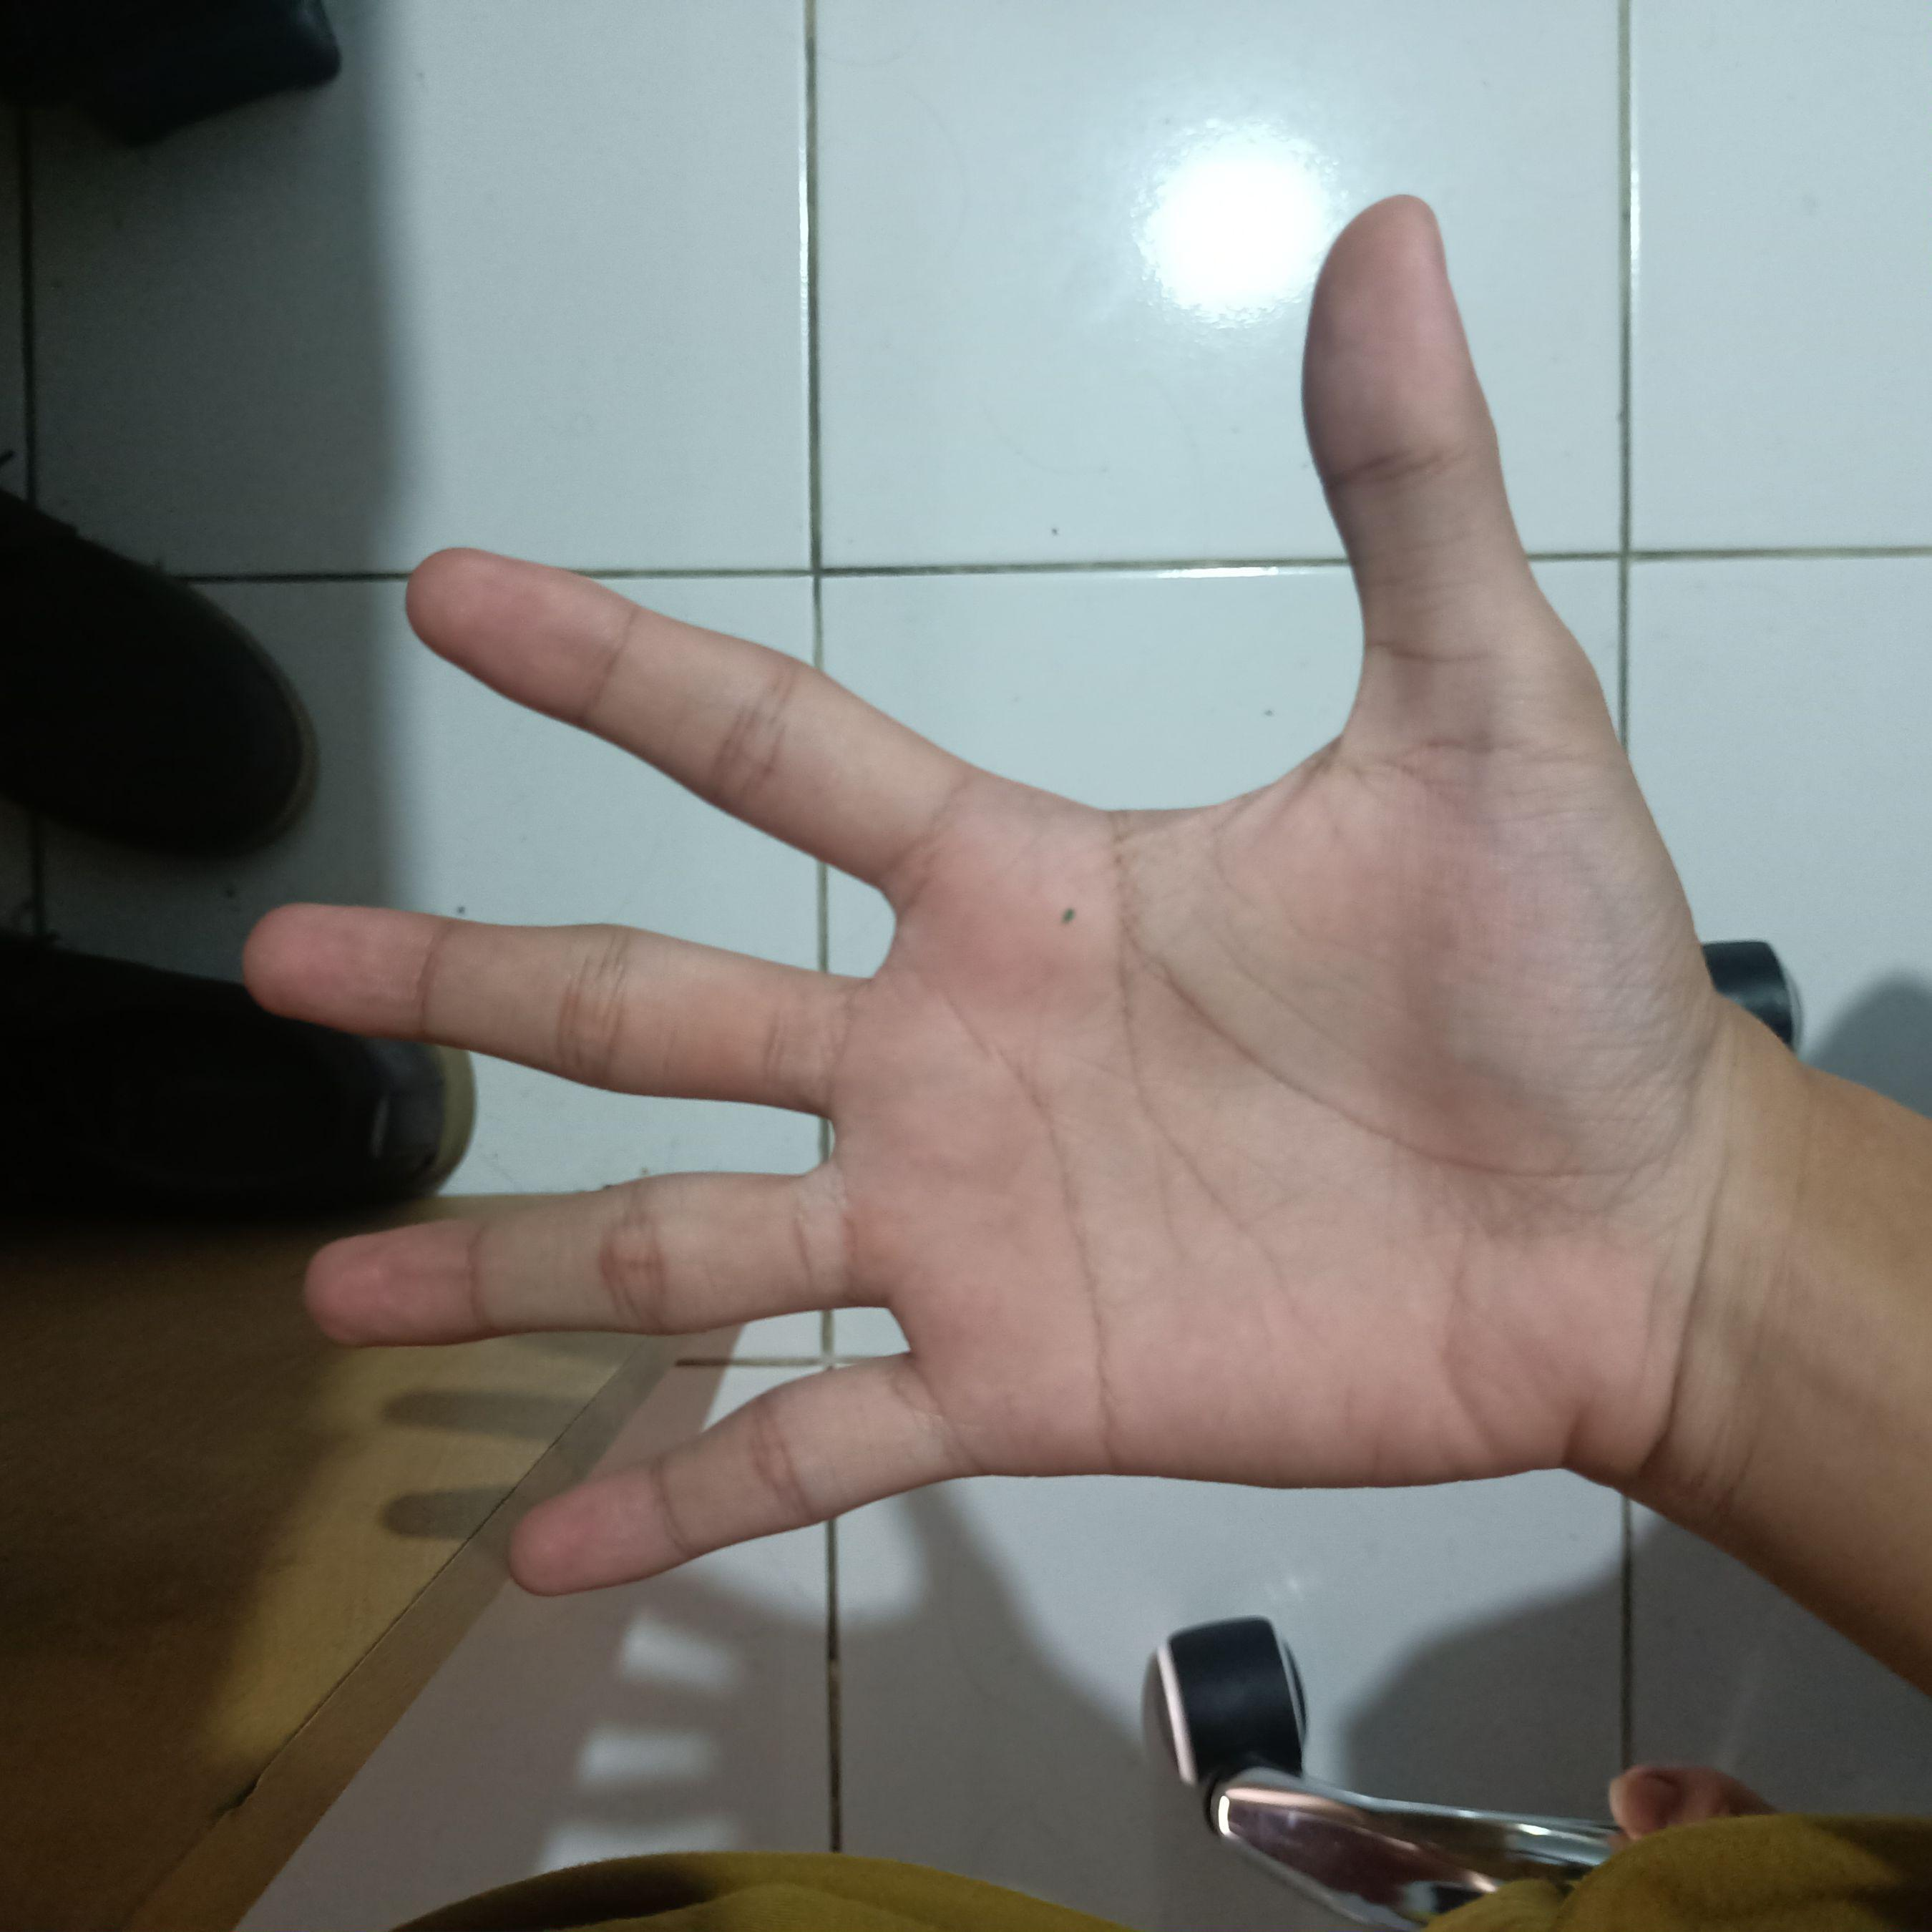paper: (218, 159, 1760, 1626)
